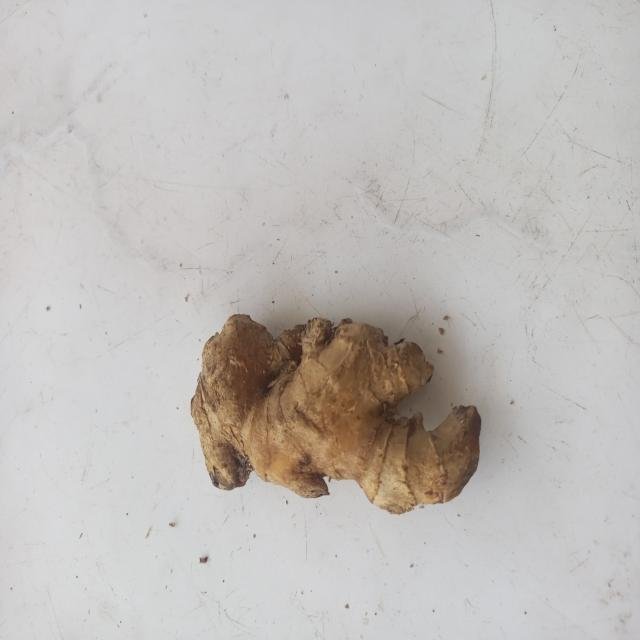ginger: (194, 310, 486, 508)
